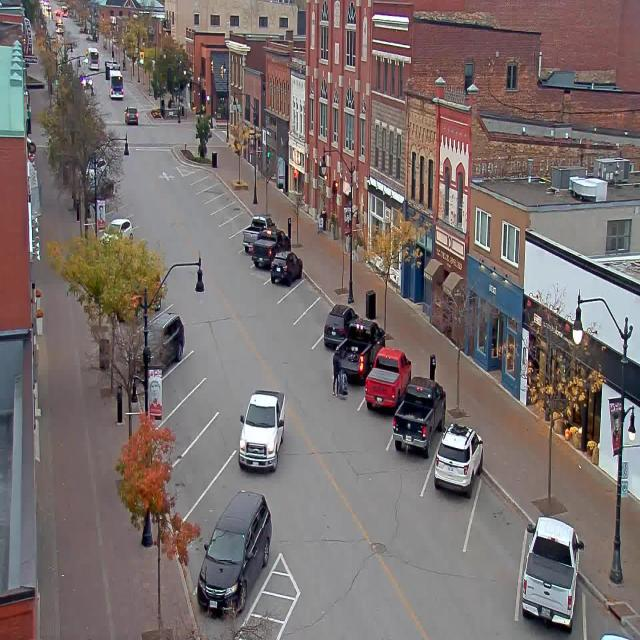available: (466, 459, 537, 566), (177, 420, 234, 501), (578, 572, 640, 639), (160, 386, 213, 459), (152, 346, 201, 418), (309, 284, 341, 332), (292, 262, 320, 306), (218, 183, 237, 211), (228, 194, 246, 222), (238, 207, 255, 233), (210, 176, 227, 201), (204, 167, 219, 189), (197, 159, 211, 180)
occupied: (197, 489, 272, 617), (521, 515, 584, 630), (392, 375, 446, 456), (238, 388, 285, 473), (434, 421, 483, 496), (337, 318, 388, 386), (364, 346, 412, 412), (143, 306, 185, 366), (323, 302, 359, 348), (251, 227, 291, 268), (242, 214, 276, 253), (270, 250, 303, 286)
